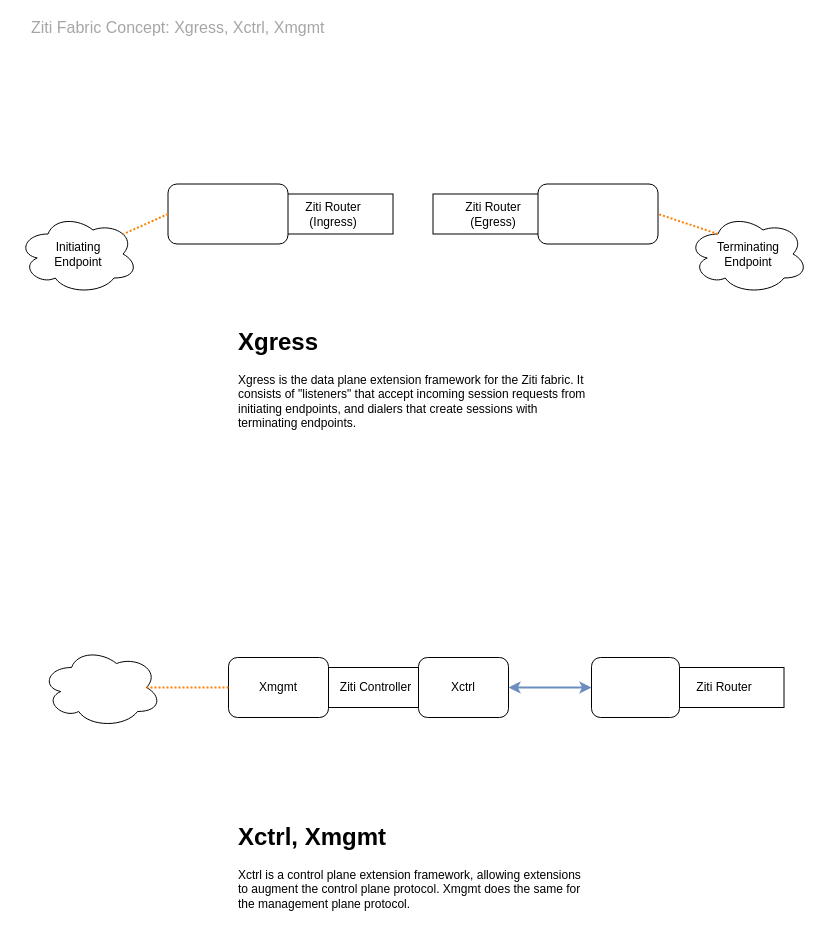
The diagram is 825 pixels wide and 944 high, and some of its shapes have lost their labels. Here are the shapes that lost their labels. From the top down, the box of each, then its label:
(167, 183, 288, 244): Xgress Listener
(537, 183, 658, 244): Xgress Dialer
(40, 646, 162, 728): Management Endpoint
(590, 656, 680, 718): Xgress
